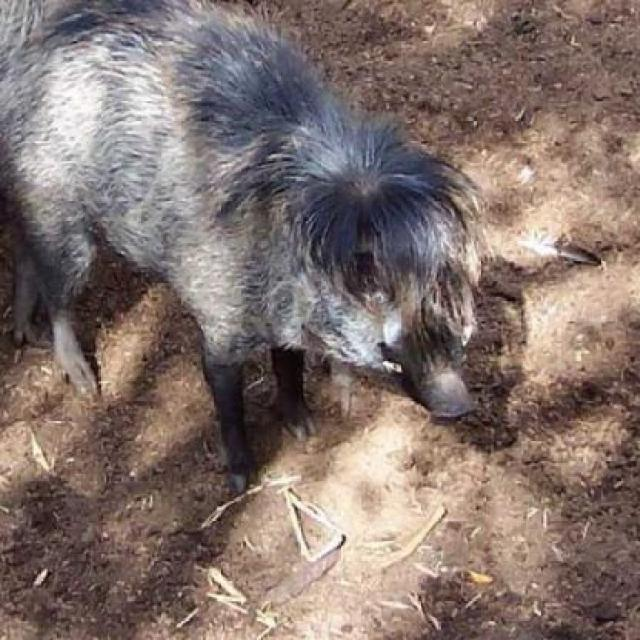pig: (6, 0, 522, 488)
